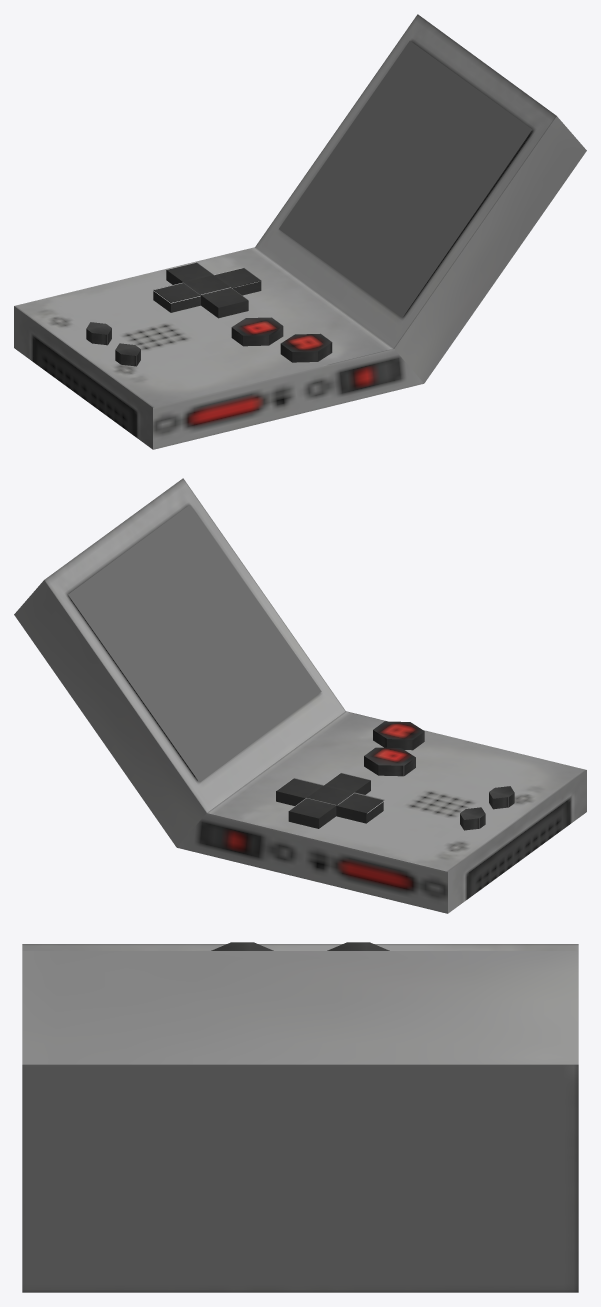
3 renders of one model, top to bottom at view 1: azimuth 30°, elevation 25°; view 2: azimuth 150°, elevation 25°; view 3: azimuth 270°, elevation 25°, orthographic. The views are drawn at different scales.
Parts seen in each view (by area): view 1: gba, screen, controler, B, A; view 2: gba, screen, controler, B, A; view 3: gba.
Boxes of the visible parts, left/top/right/bottom form: gba: left=14, top=14, right=586, bottom=449; screen: left=279, top=41, right=532, bottom=317; controler: left=153, top=262, right=261, bottom=318; B: left=231, top=317, right=283, bottom=346; A: left=280, top=333, right=332, bottom=362; gba: left=14, top=478, right=586, bottom=913; screen: left=68, top=505, right=321, bottom=782; controler: left=276, top=773, right=383, bottom=828; B: left=364, top=747, right=415, bottom=776; A: left=373, top=721, right=424, bottom=750; gba: left=22, top=944, right=578, bottom=1292.
Size of the model in its own units: 108 by 56 by 60.
Materials: 1 (1 with a texture image).
